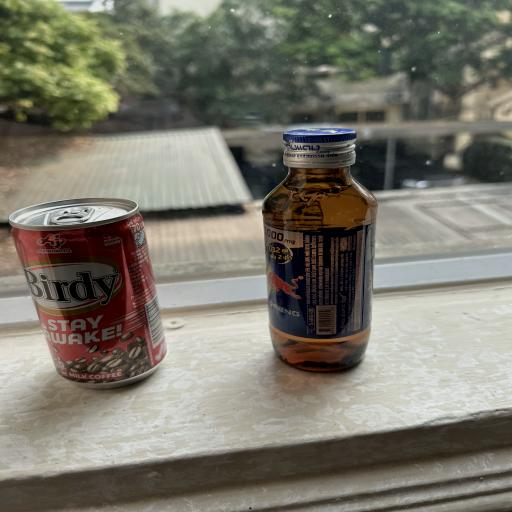birdy: (7, 194, 170, 394)
bo_huc: (253, 124, 382, 377)
